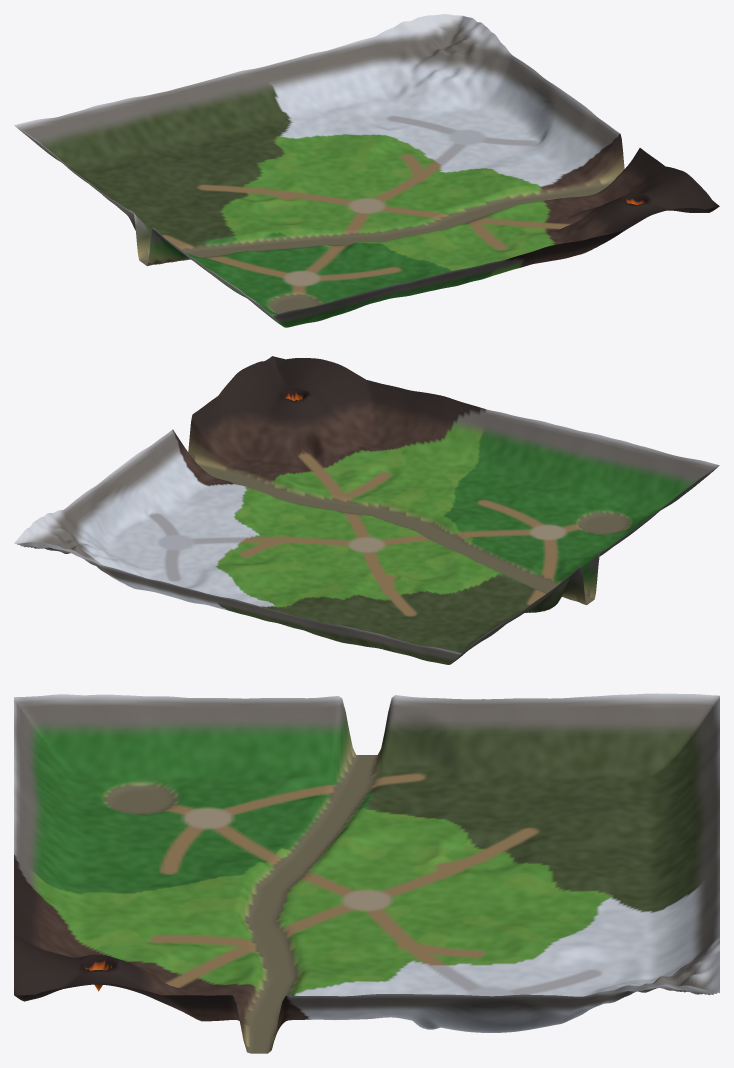
File: SM_GZ_Terrain.fbx
3 renders of one model, top to bottom at view 1: azimuth 30°, elevation 25°; view 2: azimuth 150°, elevation 25°; view 3: azimuth 270°, elevation 25°, orthographic. The views are drawn at different scales.
Parts seen in each view (by area): view 1: SM_GZ_Terrain; view 2: SM_GZ_Terrain; view 3: SM_GZ_Terrain.
Part boxes in pixels (<box>): SM_GZ_Terrain: <box>14,14,719,327</box>; SM_GZ_Terrain: <box>14,356,719,664</box>; SM_GZ_Terrain: <box>14,693,719,1053</box>.
Size of the model in its own units: 40000 by 4504 by 40000.
